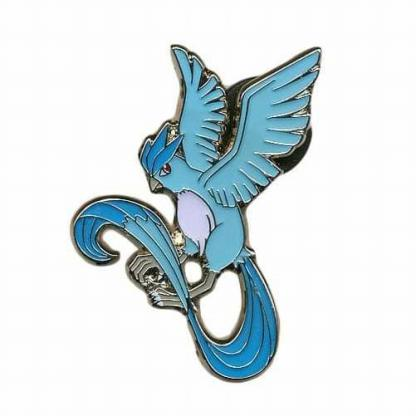Articuno: (70, 45, 333, 397)
